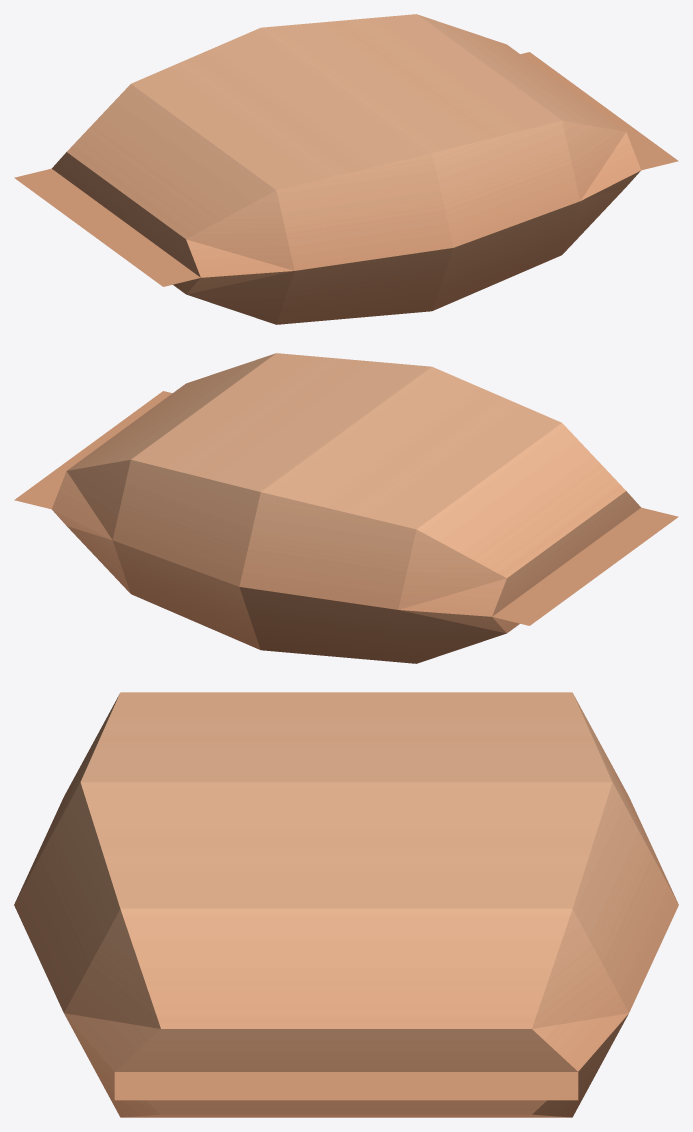
Rendered from BagFlat.obj.
The picture shows the model from 3 angles, top to bottom: view 1: azimuth 30°, elevation 25°; view 2: azimuth 150°, elevation 25°; view 3: azimuth 270°, elevation 25°; orthographic projection. The views are drawn at different scales.
Parts seen in each view (by area): view 1: bag_flat; view 2: bag_flat; view 3: bag_flat.
Boxes of the visible parts, x1=… form: bag_flat: x1=14, y1=14, x2=678, y2=324; bag_flat: x1=14, y1=353, x2=678, y2=663; bag_flat: x1=14, y1=692, x2=678, y2=1117.
Size of the model in its own units: 0.2275 by 0.0667 by 0.1636.
Materials: 1 (1 with a texture image).
